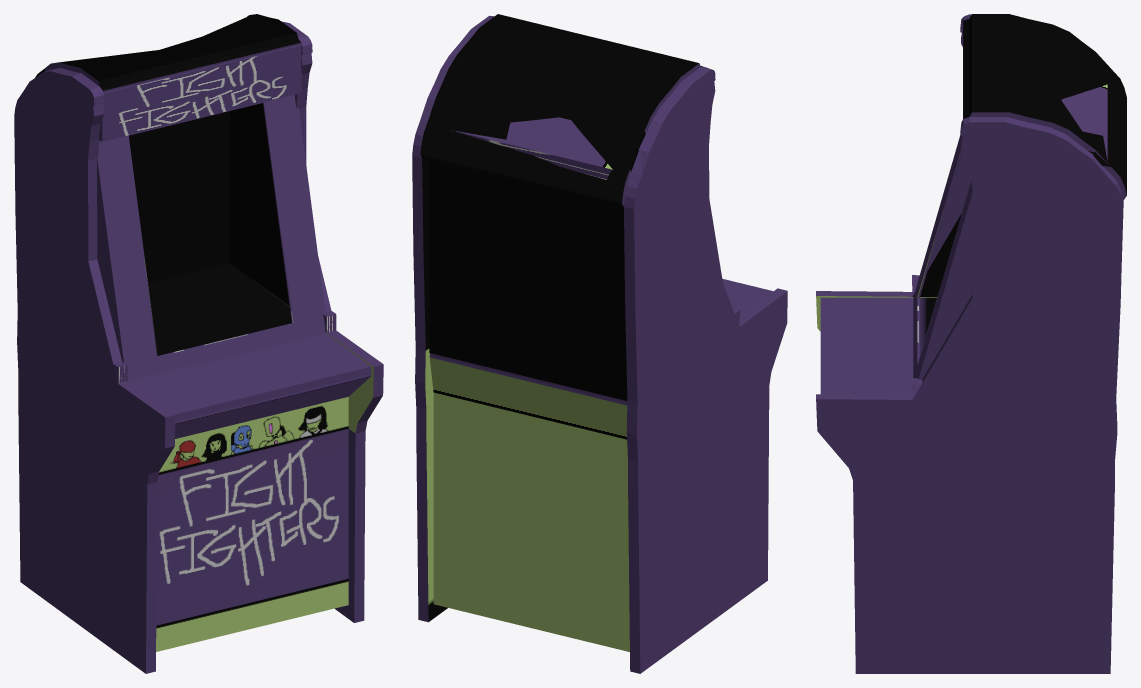
The model's file is BrokenArcadeMachine.fbx.
The picture shows the model from 3 angles, left to right: view 1: azimuth 30°, elevation 25°; view 2: azimuth 150°, elevation 25°; view 3: azimuth 270°, elevation 25°; orthographic projection.
Parts seen in each view (by area): view 1: Cube.014, Cube.015; view 2: Cube.015, Cube.014; view 3: Cube.015, Cube.014.
Boxes of the visible parts, x1,y1,x2,y2 form: Cube.014: (97, 95, 371, 651); Cube.015: (14, 14, 383, 673); Cube.015: (412, 14, 787, 673); Cube.014: (429, 160, 773, 651); Cube.015: (816, 14, 1126, 673); Cube.014: (820, 135, 973, 394).
Bounding box in the file's own units: 177 × 424 × 215.
